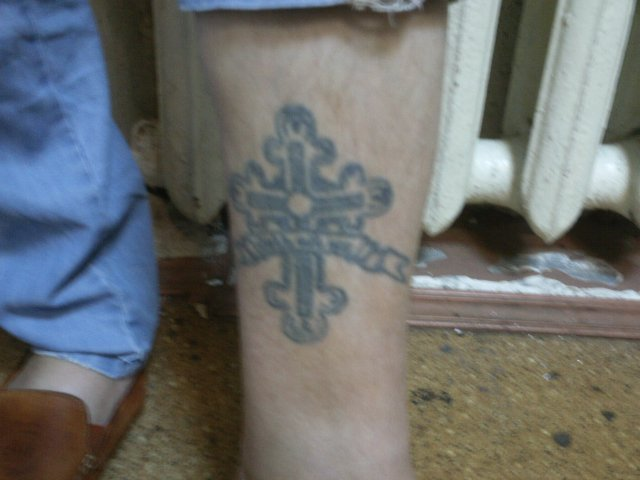tatu9_krest: (225, 103, 402, 351)
